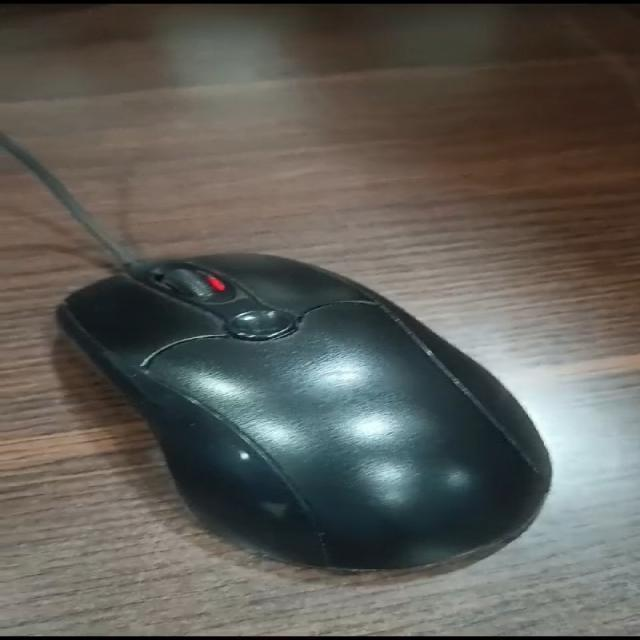Mouse: (24, 225, 590, 590)
